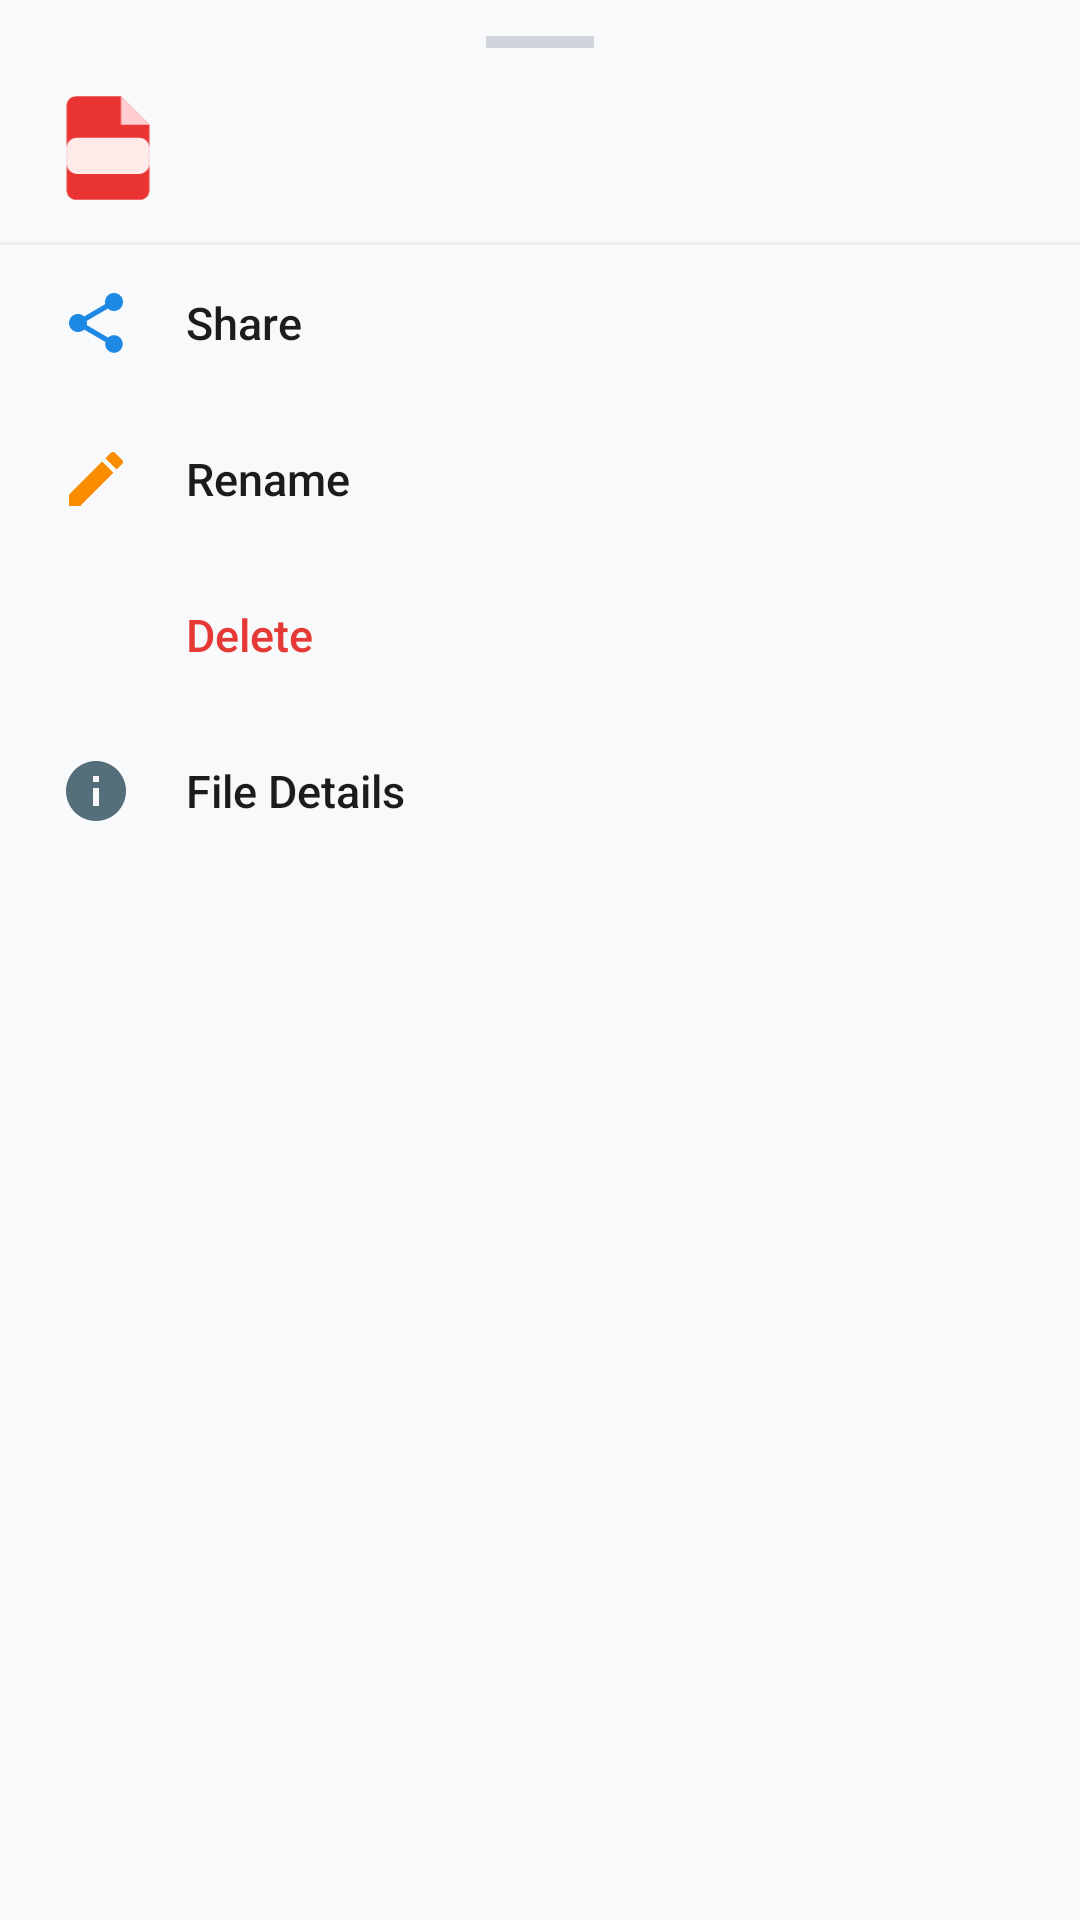

Icon click points for this 1080px x 1920px phone screenshot, format (x,y):
doc page pdf: (108,148)
info: (96,791)
